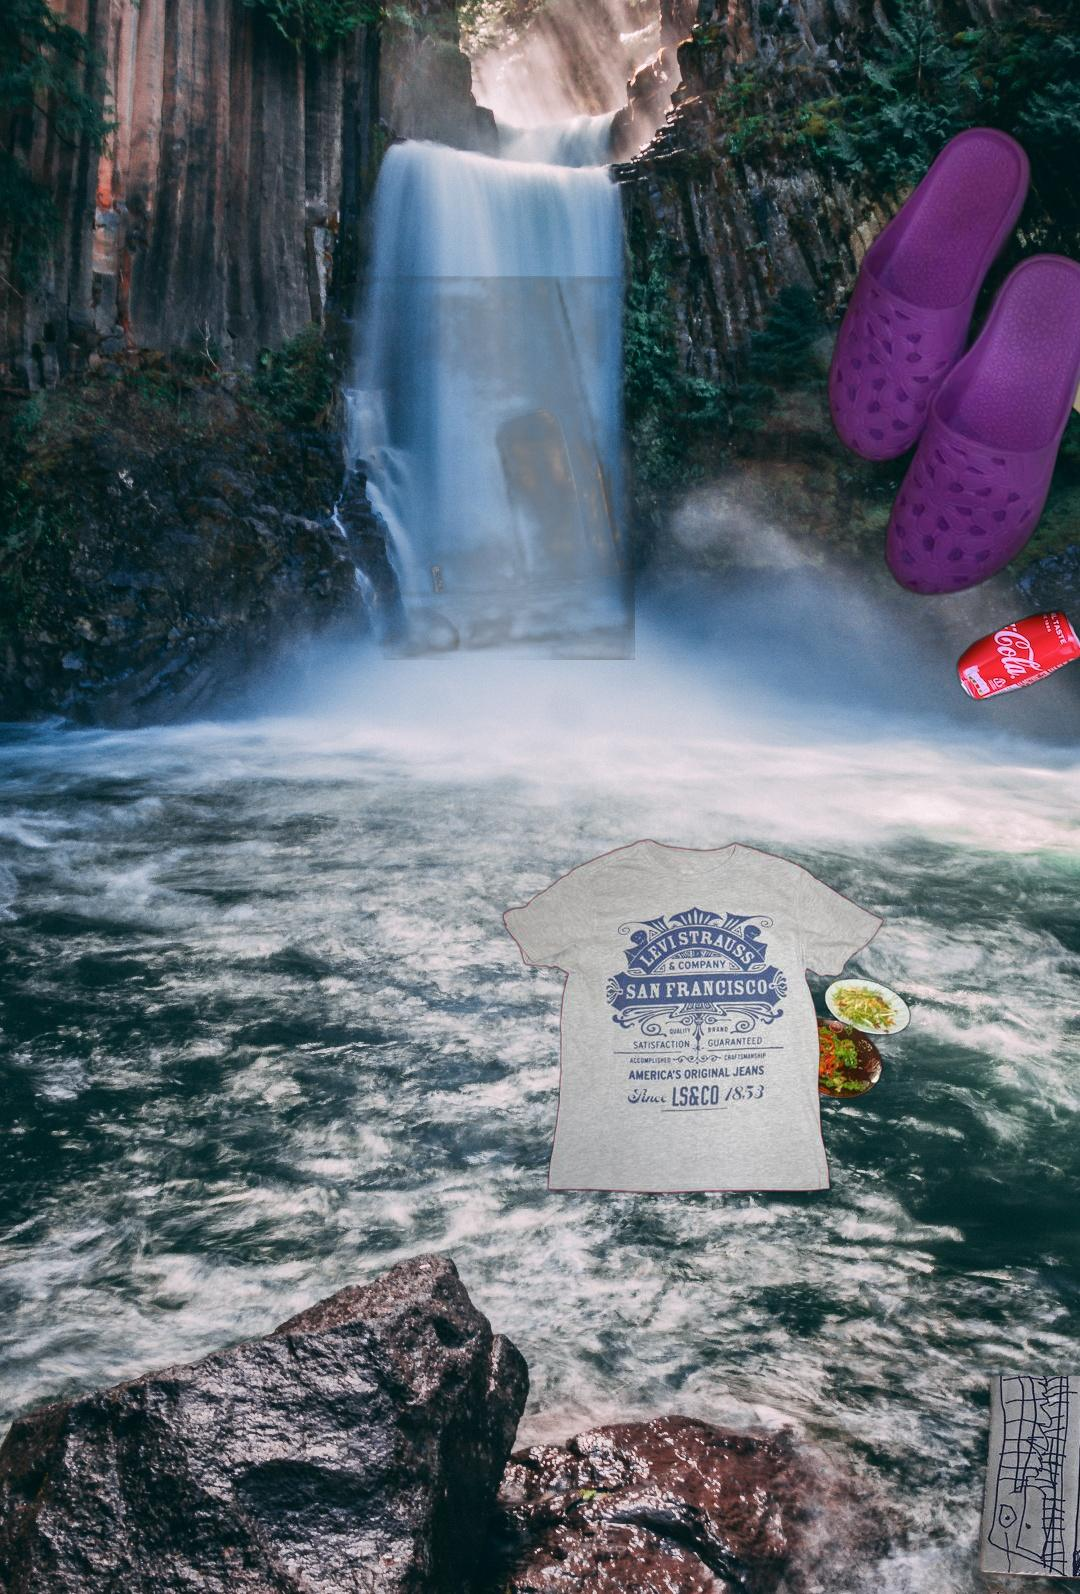biological: (550, 880, 915, 1110)
clothes: (499, 834, 887, 1198)
metal-cans: (953, 605, 1080, 707)
paper: (123, 276, 635, 660)
paper-bag: (1058, 323, 1080, 436)
shoes: (824, 120, 1080, 601)
trashbox-cardboard: (938, 1376, 1080, 1594)
